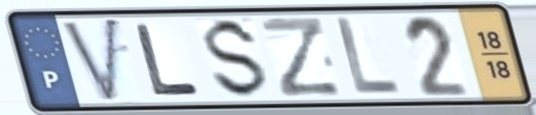2: (401, 13, 475, 98)
L: (130, 21, 205, 99), (333, 15, 403, 98)
S: (202, 15, 273, 102)
V: (57, 14, 123, 107)
Z: (256, 15, 346, 101)
